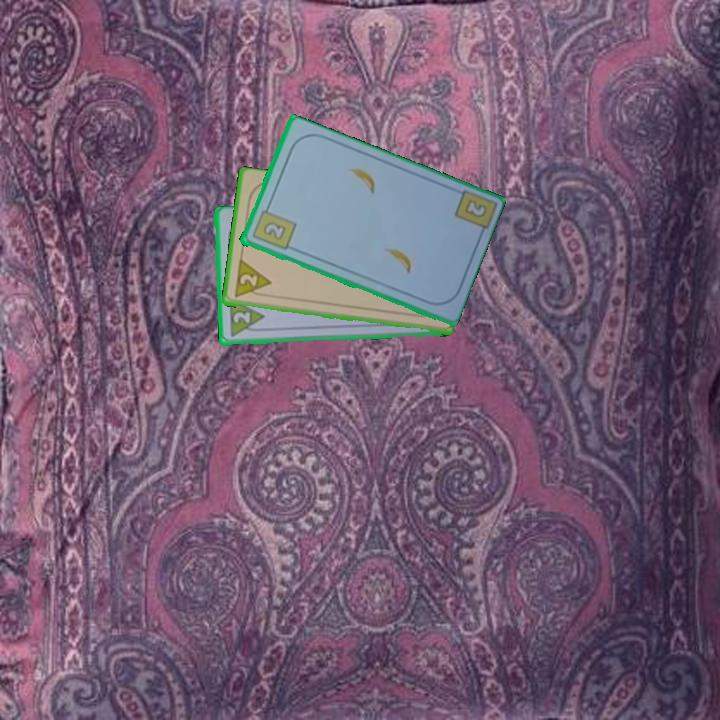2b: (248, 202, 298, 253), (461, 196, 489, 221)
2p: (225, 296, 267, 340), (236, 270, 260, 290)
